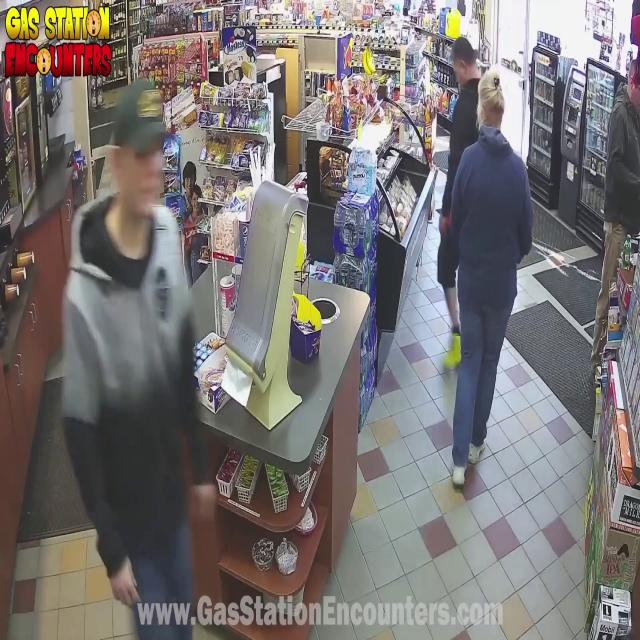normal: (68, 75, 220, 640), (443, 62, 539, 506), (591, 31, 640, 380), (441, 9, 477, 125)
